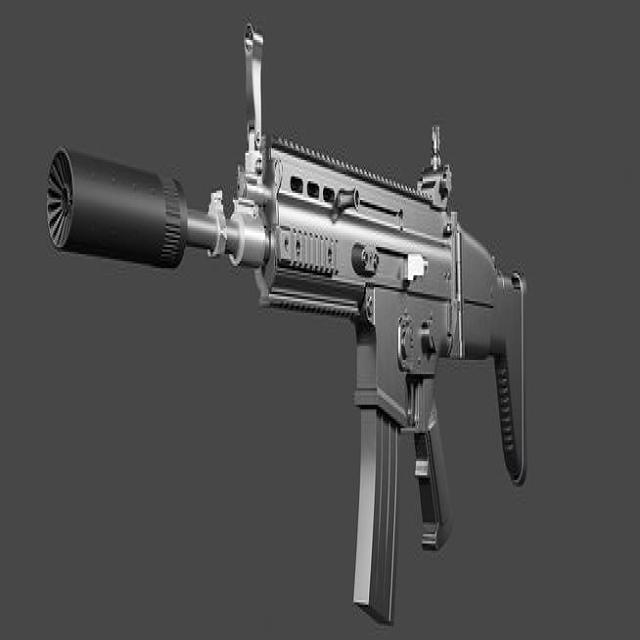Gun: (179, 17, 541, 619)
